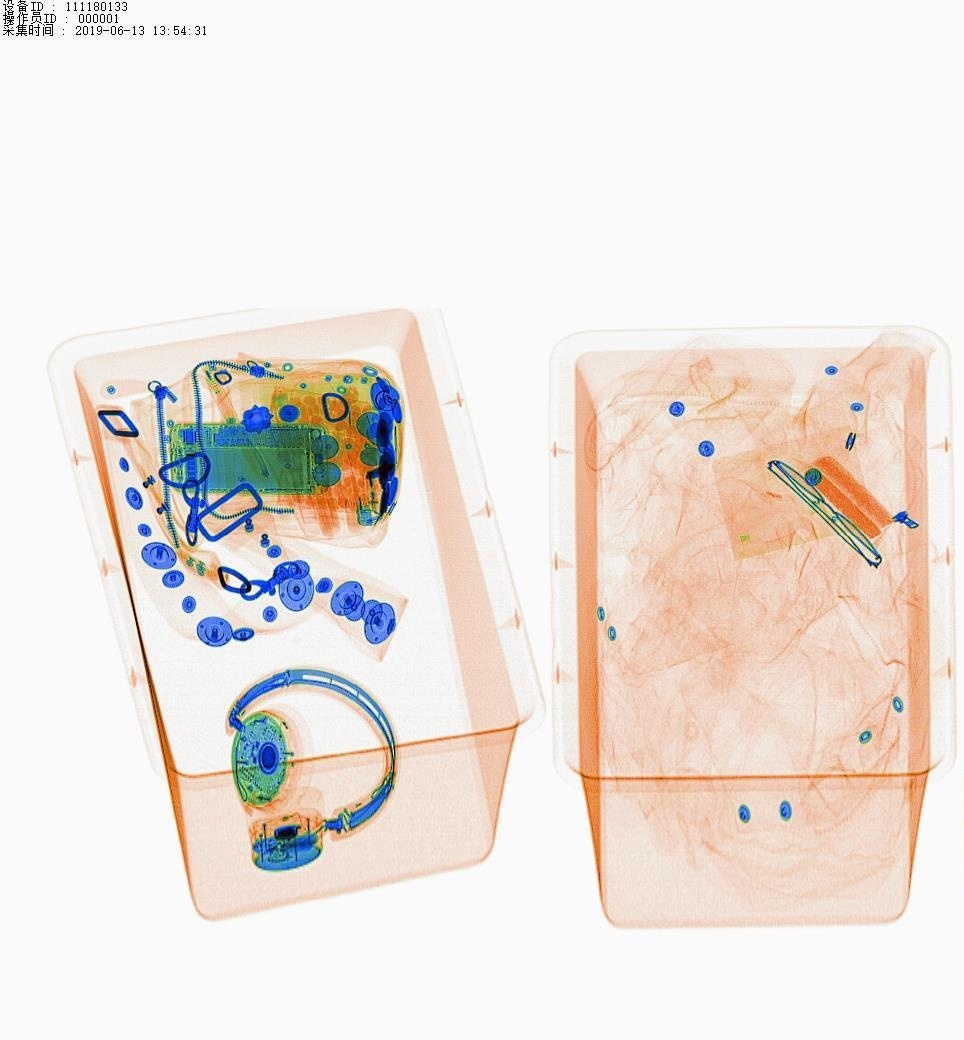NonmetallicFire: (341, 432, 386, 539)
